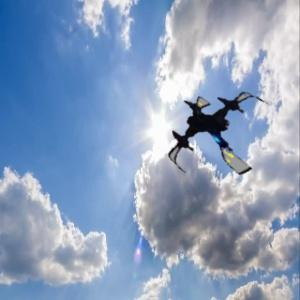drone: (165, 79, 277, 191)
